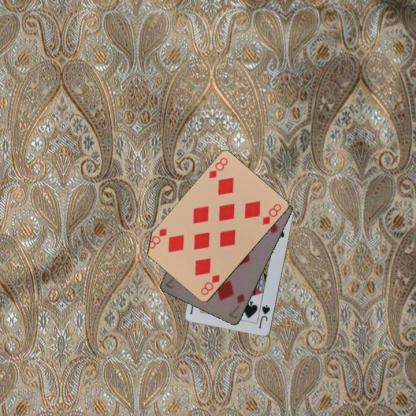7d: (226, 291, 246, 321)
8d: (198, 272, 221, 297), (206, 156, 229, 180)
Js: (256, 303, 272, 330)
